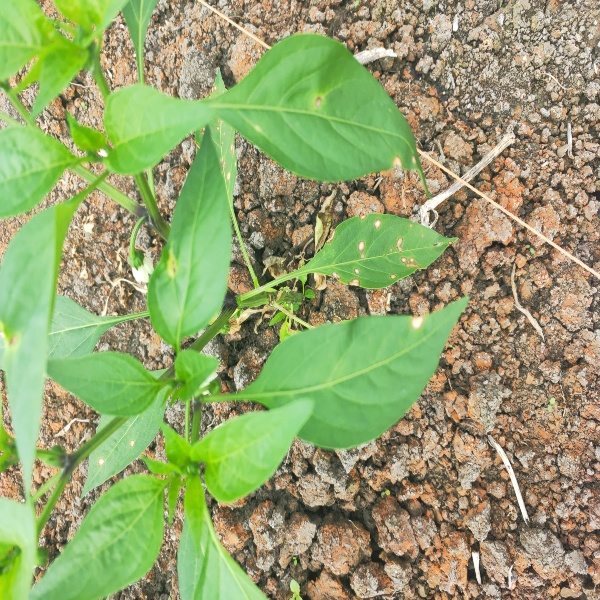Anthrax: (323, 213, 426, 285), (157, 244, 192, 285), (1, 319, 31, 360), (382, 147, 415, 176), (305, 91, 330, 115)
